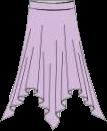Hemline: (0, 87, 106, 130)
Waistline: (27, 7, 75, 10), (29, 0, 74, 2)
